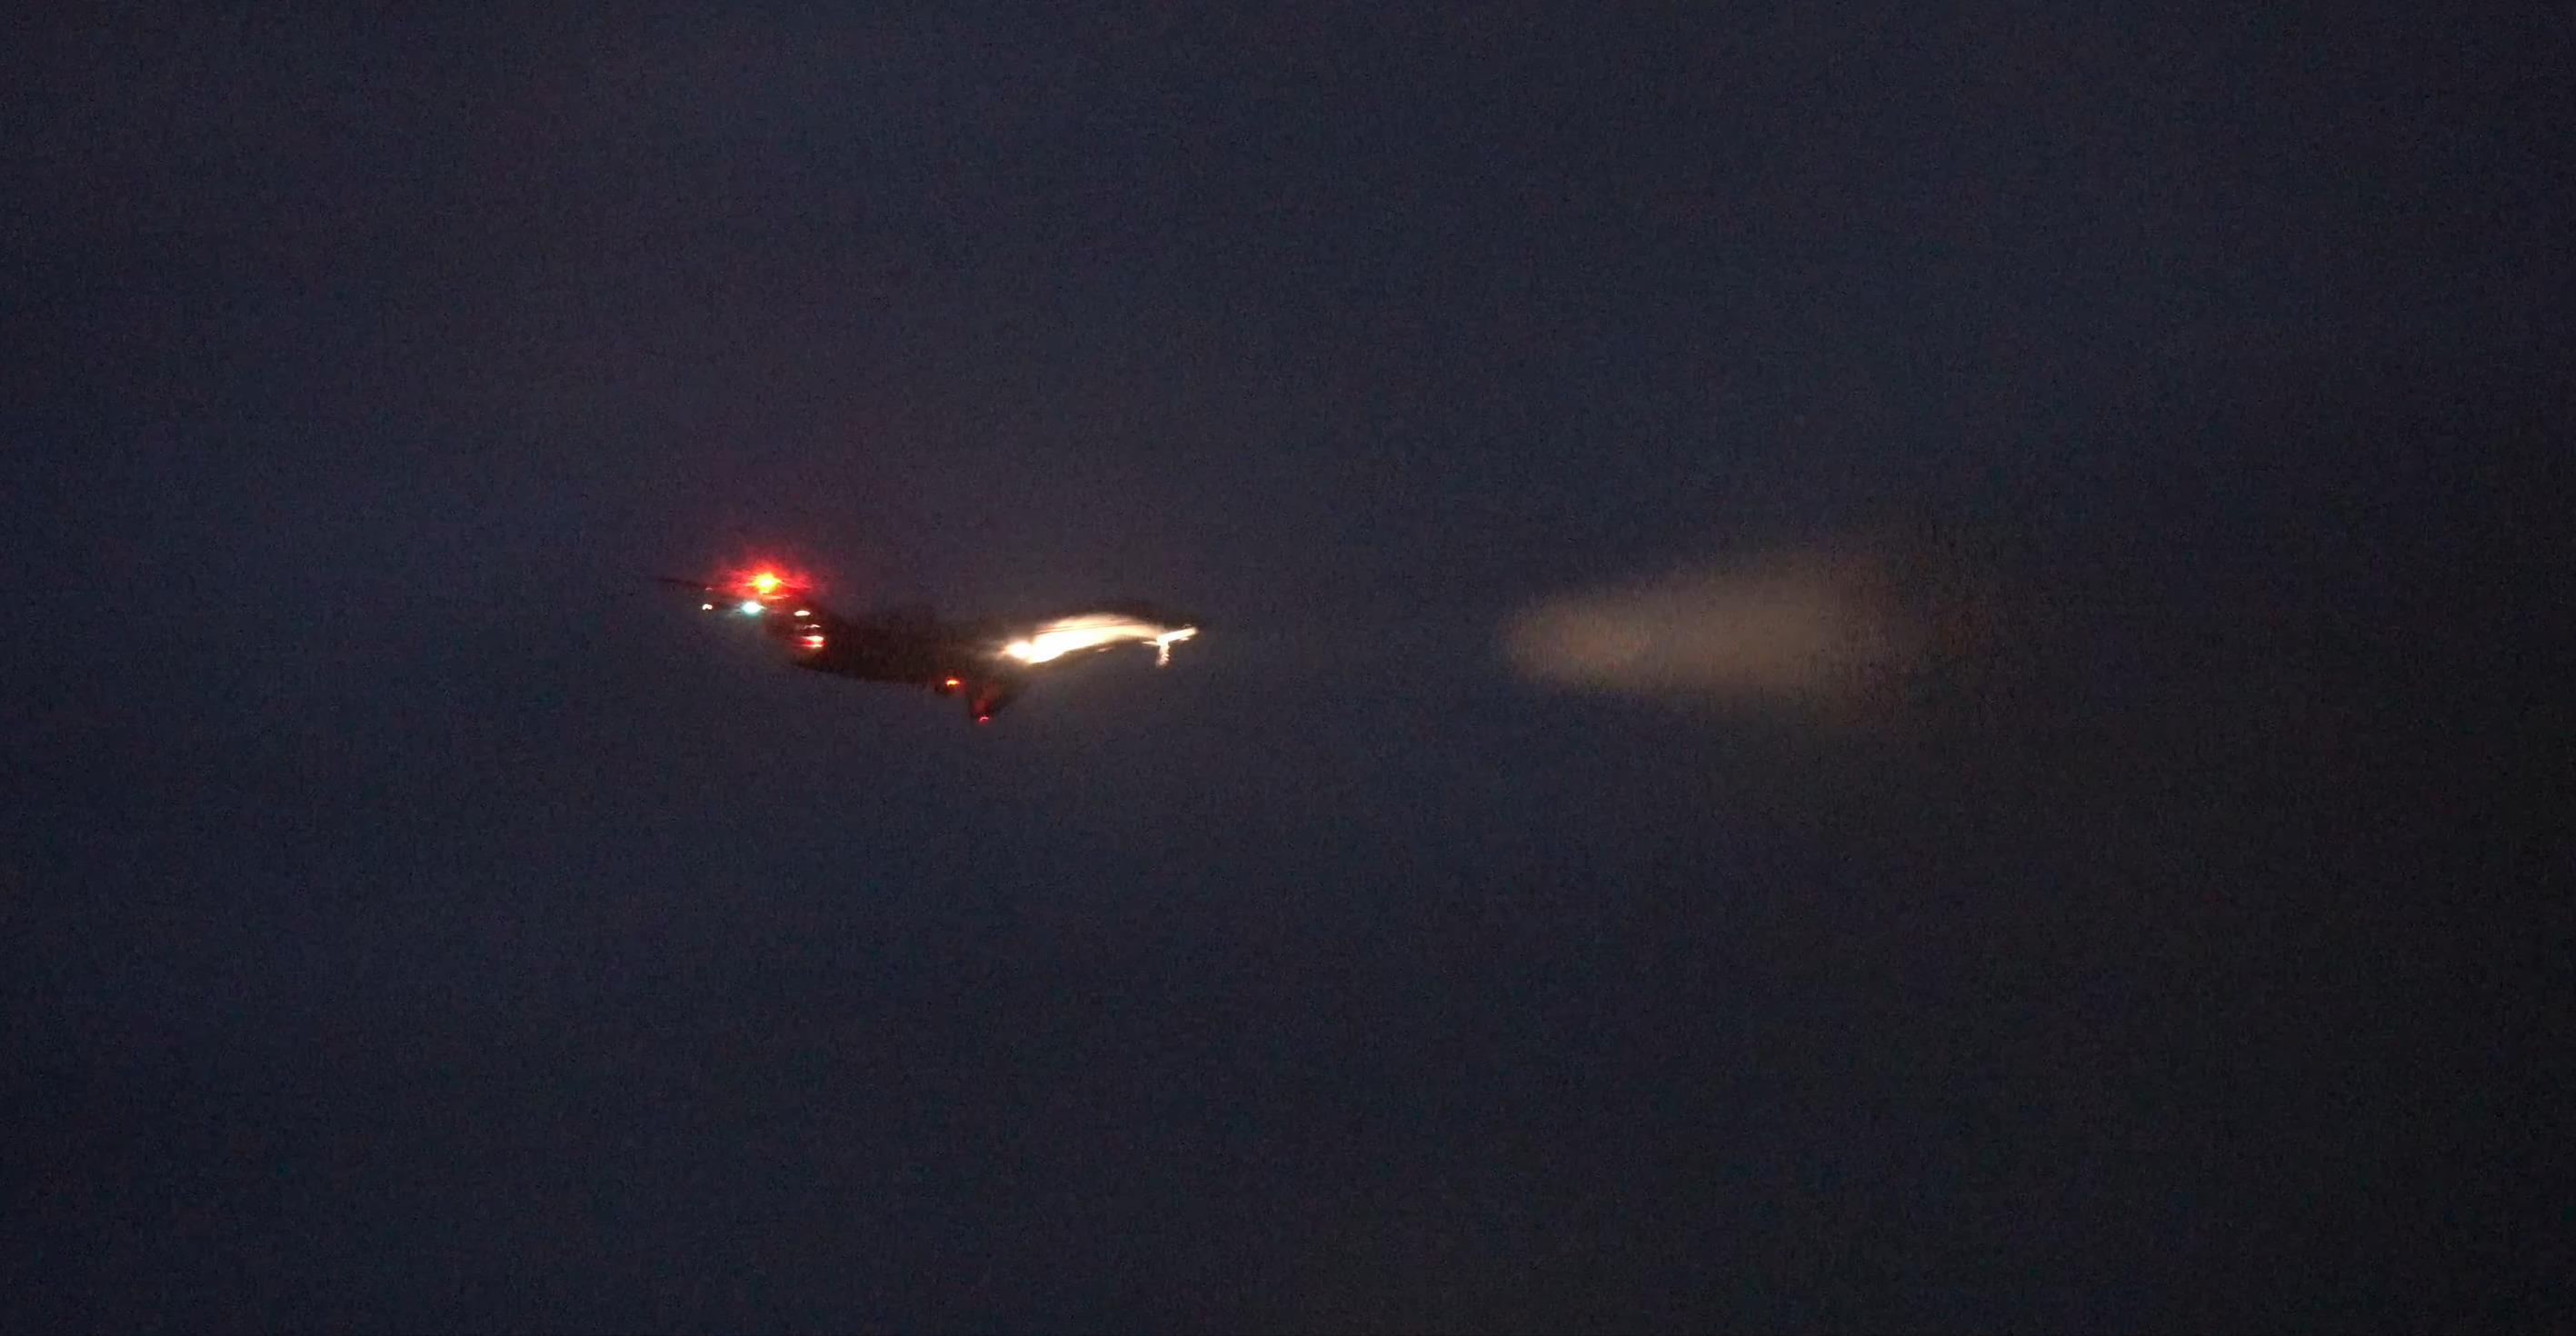Plane: (671, 527, 1203, 741)
